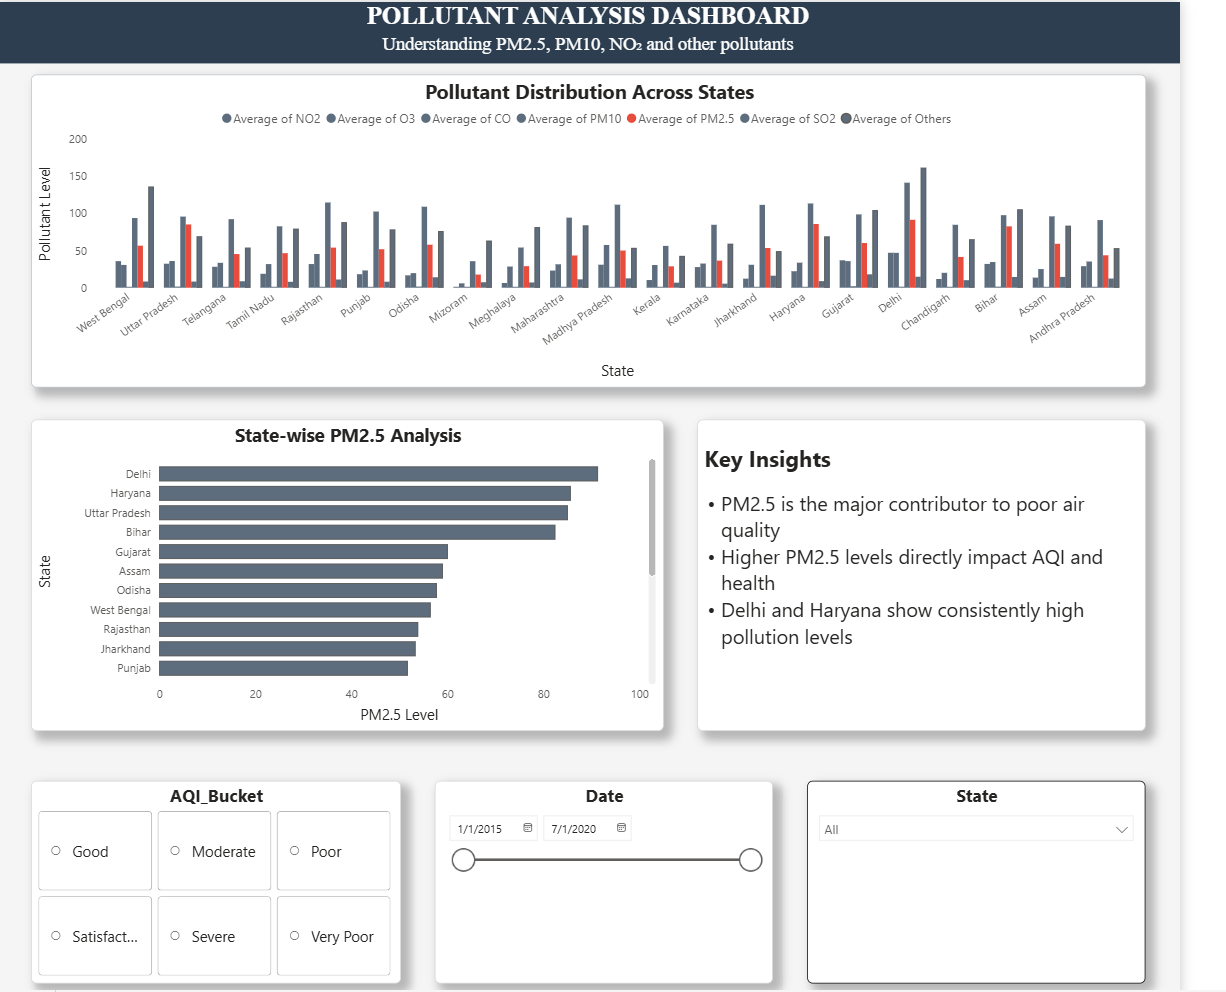

The dashboard page shown, as its layout file describes it:
{"tool":"powerbi","page":{"name":"Page 2","canvas":[1280,1100],"ordinal":1},"visuals":[{"type":"shape","title":"POLLUTANT ANALYSIS DASHBOARD","box":[0,0,1279.7,66.2],"z":0},{"type":"clusteredColumnChart","title":"Pollutant Distribution Across States","fields":{"Category":["Dashboard_ready.State"],"Y":["Avg(Dashboard_ready.NO2)","Avg(Dashboard_ready.O3)","Avg(Dashboard_ready.CO)","Avg(Dashboard_ready.PM10)","Avg(Dashboard_ready.PM2.5)","Avg(Dashboard_ready.SO2)","Avg(Dashboard_ready.Others)"]},"box":[37.4,78.2,1205.8,338.4],"z":1000},{"type":"clusteredBarChart","title":"State-wise PM2.5 Analysis","fields":{"Category":["Dashboard_ready.State"],"Y":["Avg(Dashboard_ready.PM2.5)"]},"box":[37.4,450.7,683.7,336.7],"z":2000},{"type":"slicer","title":"State","fields":{"Values":["Dashboard_ready.State"]},"box":[877.6,841.8,365.6,219.4],"z":3000},{"type":"advancedSlicerVisual","fields":{"Values":["Dashboard_ready.AQI_Bucket"]},"box":[37.4,841.8,399.7,219.4],"z":4000},{"type":"slicer","title":"Date","fields":{"Values":["Dashboard_ready.Date"]},"box":[474.5,841.8,365.6,219.4],"z":5000},{"type":"textbox","box":[758.5,450.7,484.7,336.7],"z":6000}]}

Visuals, with their boxes on the page's 1280x1100 design canvas (x1, y1, x2, y2). These are canvas units, not pixel positions in the 1226x992 screenshot, which may show the page scaled, cropped or inside an application window:
"POLLUTANT ANALYSIS DASHBOARD" shape: [0,0,1280,66]
"Pollutant Distribution Across States" clusteredColumnChart: [37,78,1243,417]
"State-wise PM2.5 Analysis" clusteredBarChart: [37,451,721,787]
"State" slicer: [878,842,1243,1061]
advancedSlicerVisual - Dashboard_ready.AQI_Bucket: [37,842,437,1061]
"Date" slicer: [474,842,840,1061]
textbox: [758,451,1243,787]
